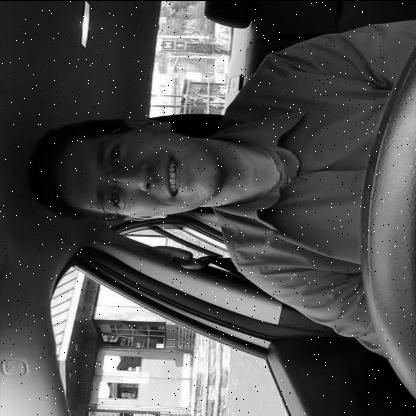no_seatbelt: (5, 100, 406, 278)
